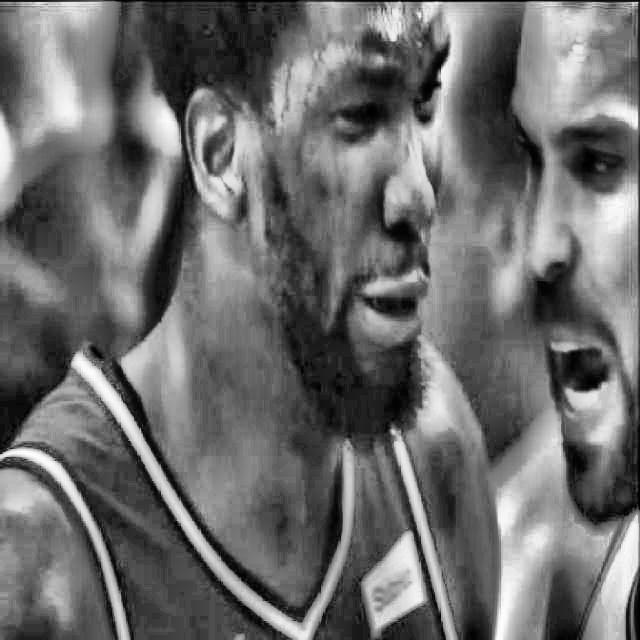sad: (248, 2, 450, 410)
